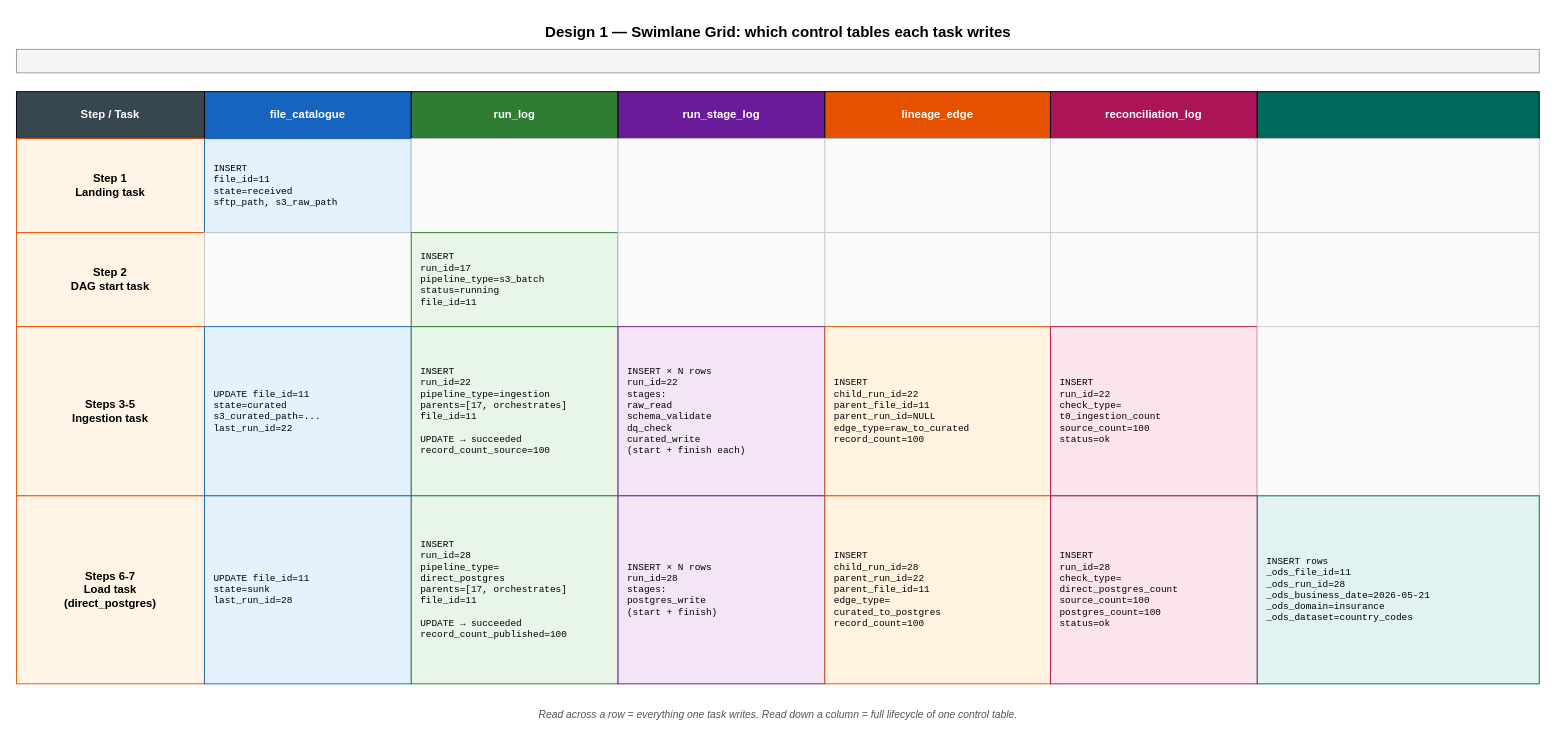
Some shapes in this 1556 by 742 pixel diagram are drawn without their labels. The shapes that lost their labels are listed below. From the top down, each one's box as (x1, y1, x2, y2) in pixels, then its label:
(16, 48, 1539, 73): UUID legend: file_id=11 route_run_id=17 ingestion_run_id=22 pg_write_run_id=28
(1256, 91, 1539, 139): ods.* target table
